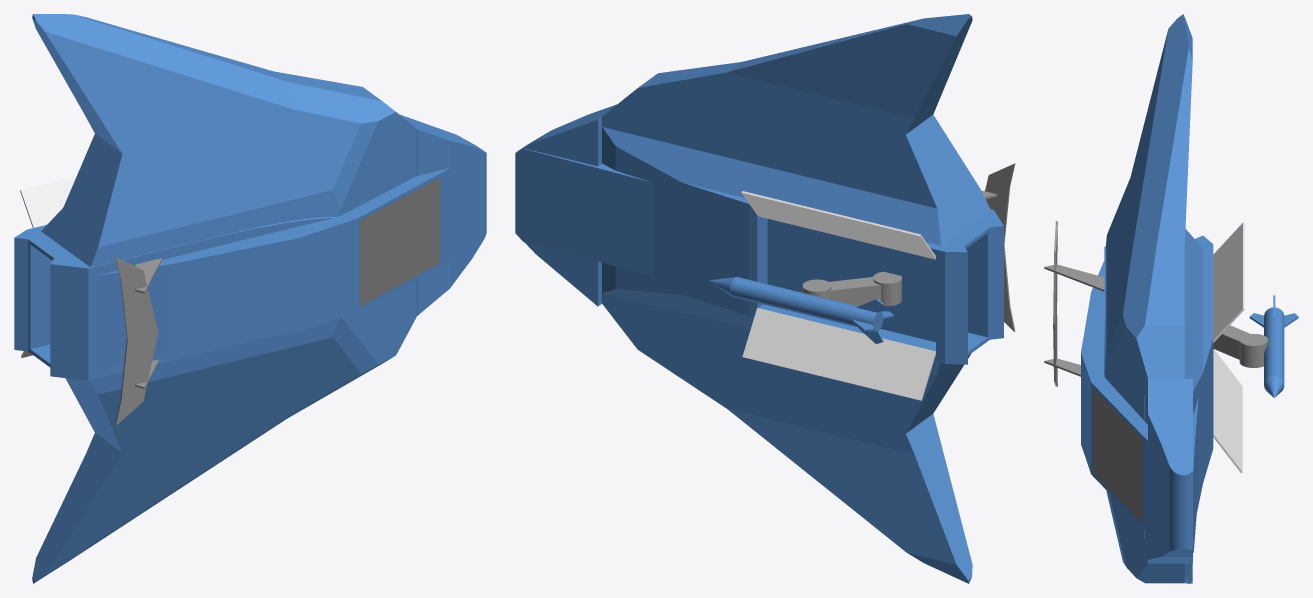
File: Spaceship v1.fbx
3 renders of one model, left to right at view 1: azimuth 30°, elevation 25°; view 2: azimuth 150°, elevation 25°; view 3: azimuth 270°, elevation 25°, orthographic.
Parts seen in each view (by area): view 1: MainBody, FrontGlass, BackFns, DropDoor2; view 2: MainBody, DropDoor1, DropDoor2, Missile, Actuator, BackFns; view 3: MainBody, FrontGlass, DropDoor2, DropDoor1, Missile, BackFns, Actuator.
Part boxes in pixels (x1,y1,x2,y2): MainBody: (14,14,486,583); FrontGlass: (359,177,440,306); BackFns: (115,257,162,425); DropDoor2: (20,176,76,227); MainBody: (515,14,1003,583); DropDoor1: (742,308,935,400); DropDoor2: (741,191,935,259); Missile: (709,277,893,343); Actuator: (802,271,901,306); BackFns: (982,163,1015,331); MainBody: (1081,14,1213,583); FrontGlass: (1093,388,1142,522); DropDoor2: (1213,223,1244,342); DropDoor1: (1213,349,1242,472); Missile: (1249,295,1298,397); BackFns: (1044,221,1104,386); Actuator: (1213,325,1268,367).
Size of the model in its own units: 258 by 305 by 125.
